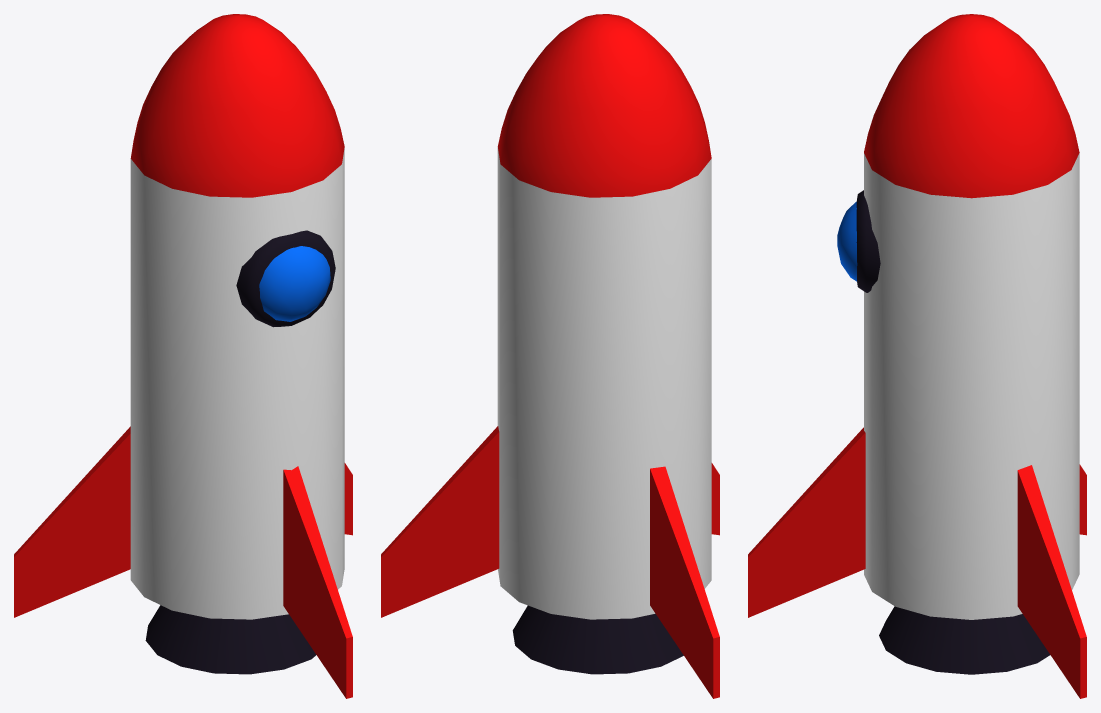
Rendered from rocket.FBX.
3 views of the same model, side by side, from view 1: azimuth 30°, elevation 25°; view 2: azimuth 150°, elevation 25°; view 3: azimuth 270°, elevation 25° (orthographic).
Parts seen in each view (by area): view 1: Cylinder001; view 2: Cylinder001; view 3: Cylinder001.
Boxes of the visible parts, box(x1,y1,x2,y2) form: Cylinder001: box(14, 14, 352, 698); Cylinder001: box(381, 14, 719, 698); Cylinder001: box(748, 14, 1086, 698).
Bounding box in the file's own units: 71.35 × 125 × 61.79.
